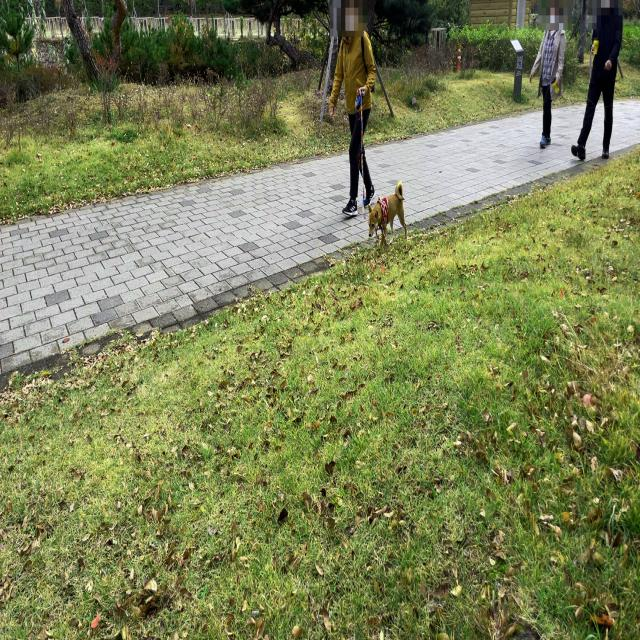Leashed_Dog: (342, 85, 407, 251)
